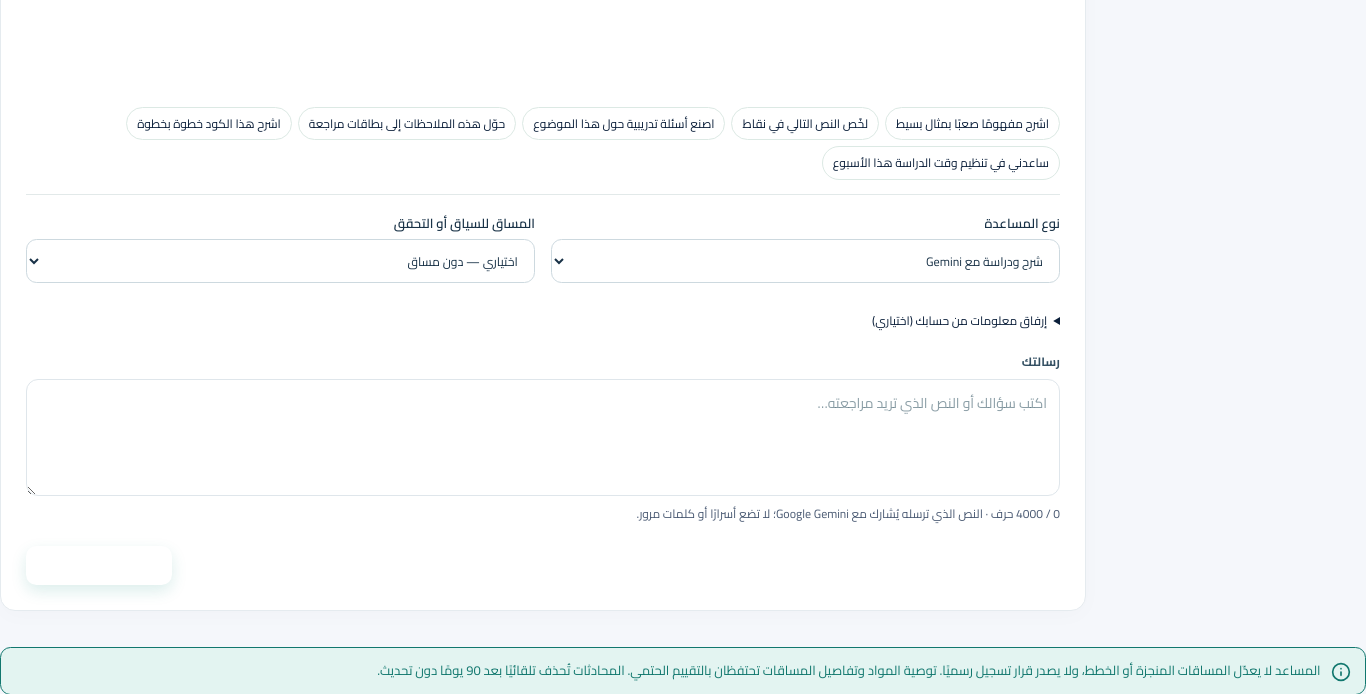
it: shows real unconfigured Gemini state while local rule checking remains available
The width and height of the screenshot is (1366, 694).
(page scrolled)
Type "تحقق متطلبات المساق" into the text box labelled "رسالتك". click: (543, 437)
box: [26, 379, 1060, 496]
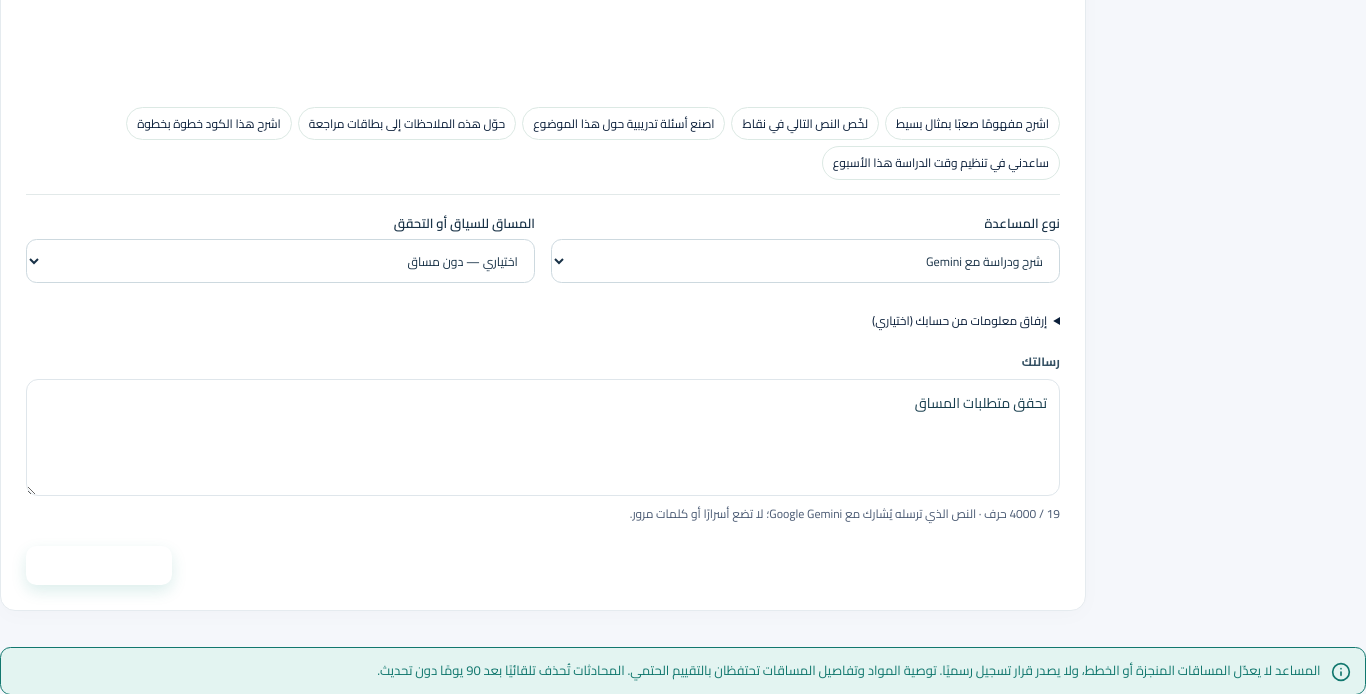
Expected: the button "إرسال إلى Gemini" is disabled, [26, 546, 172, 585]
Select "تحقق المتطلبات محليًا" in the dropdown labelled "نوع المساعدة". click: (806, 261)
box: [551, 239, 1060, 283]
(page scrolled)
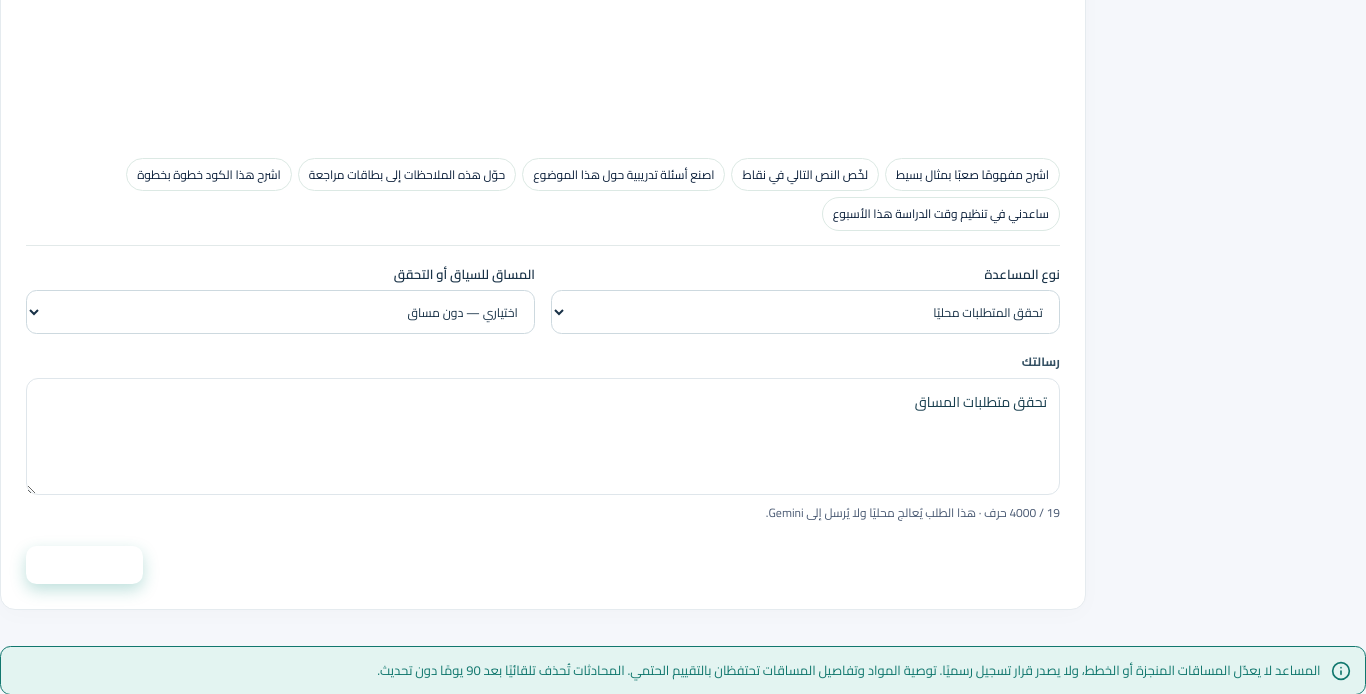
Select "ITCS1311 · رياضيات للحاسوب" in the dropdown labelled "المساق للسياق أو التحقق". click: (280, 312)
box: [26, 290, 535, 334]
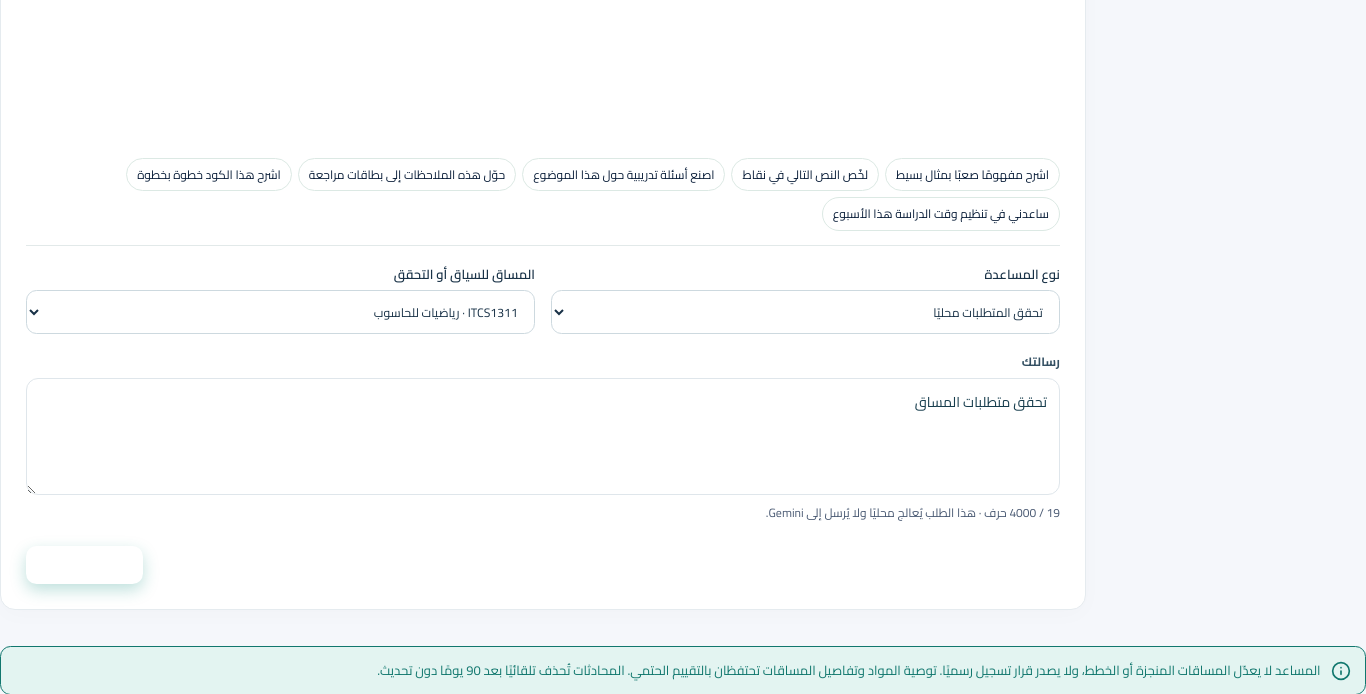
Click the button "تحقق محليًا". click: (84, 565)
box: [26, 546, 143, 584]
(page scrolled)
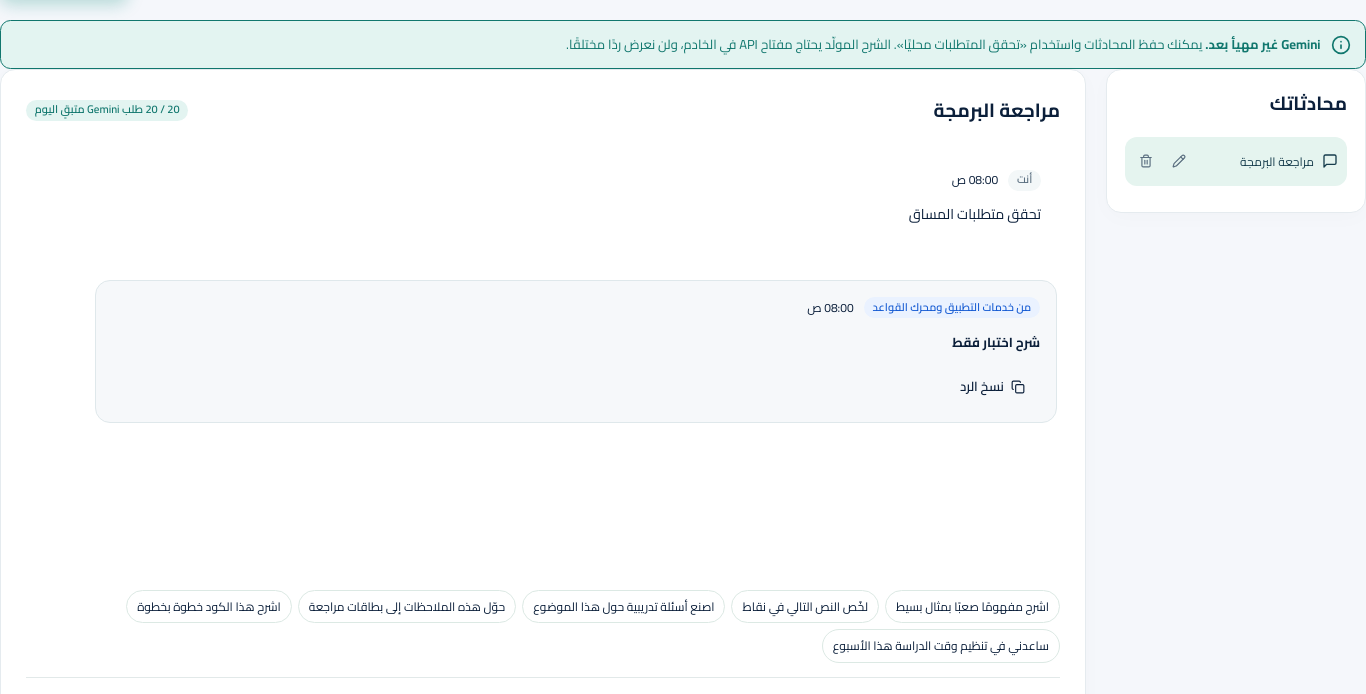
Result: the text "من خدمات التطبيق ومحرك القواعد" is shown at [864, 297, 1040, 318]
